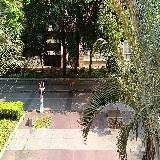fire: (71, 82, 75, 85)
